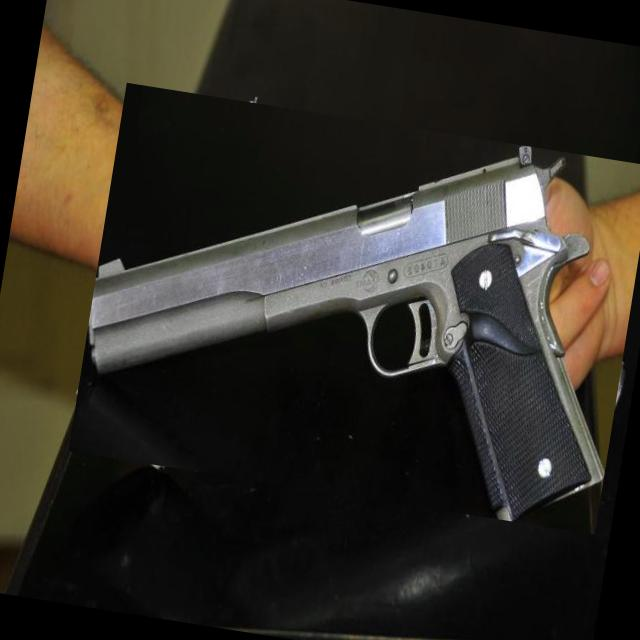Gun: (89, 146, 604, 522)
